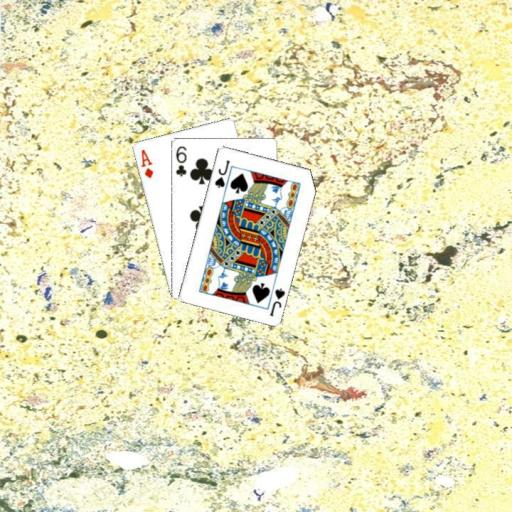6C: (172, 142, 188, 177)
AD: (138, 146, 155, 180)
JS: (211, 157, 231, 189), (267, 285, 286, 317)
